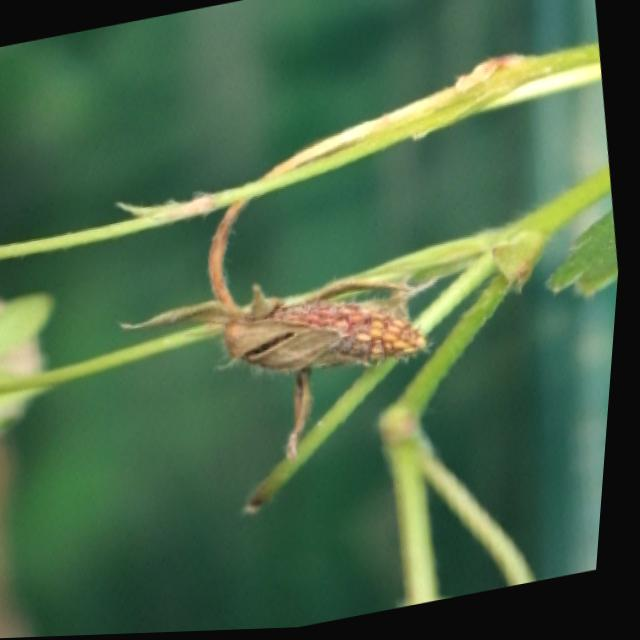Gray Mold: (124, 281, 437, 459)
